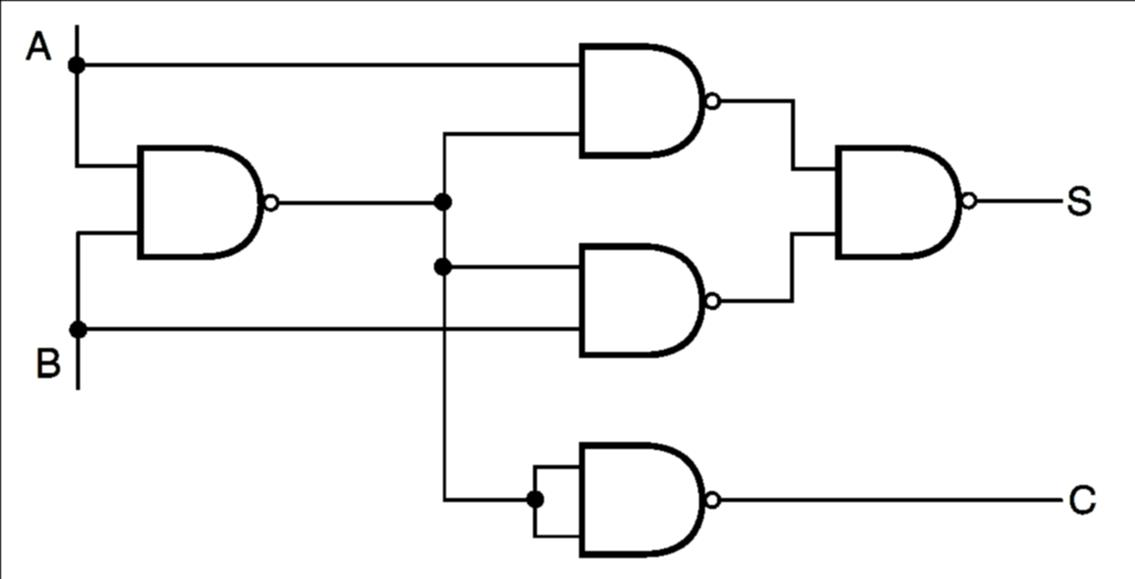nand: (558, 434, 733, 565), (121, 136, 294, 268), (560, 33, 731, 166), (819, 135, 987, 270), (560, 234, 731, 364)
